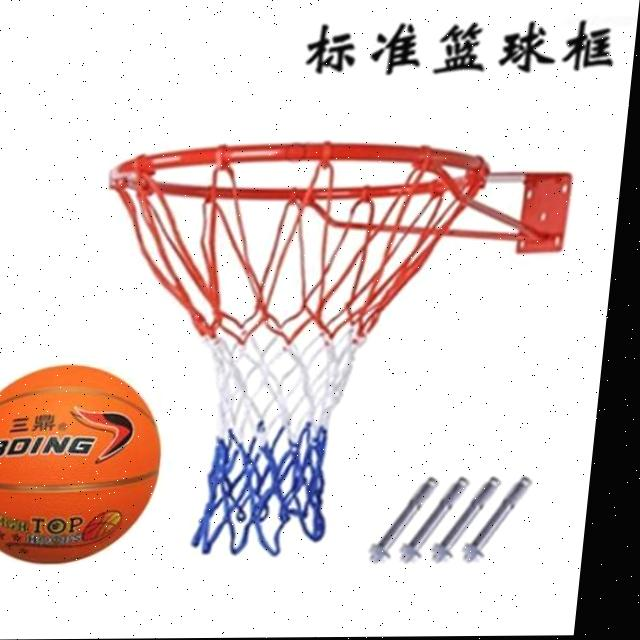Basketball: (0, 362, 172, 564)
